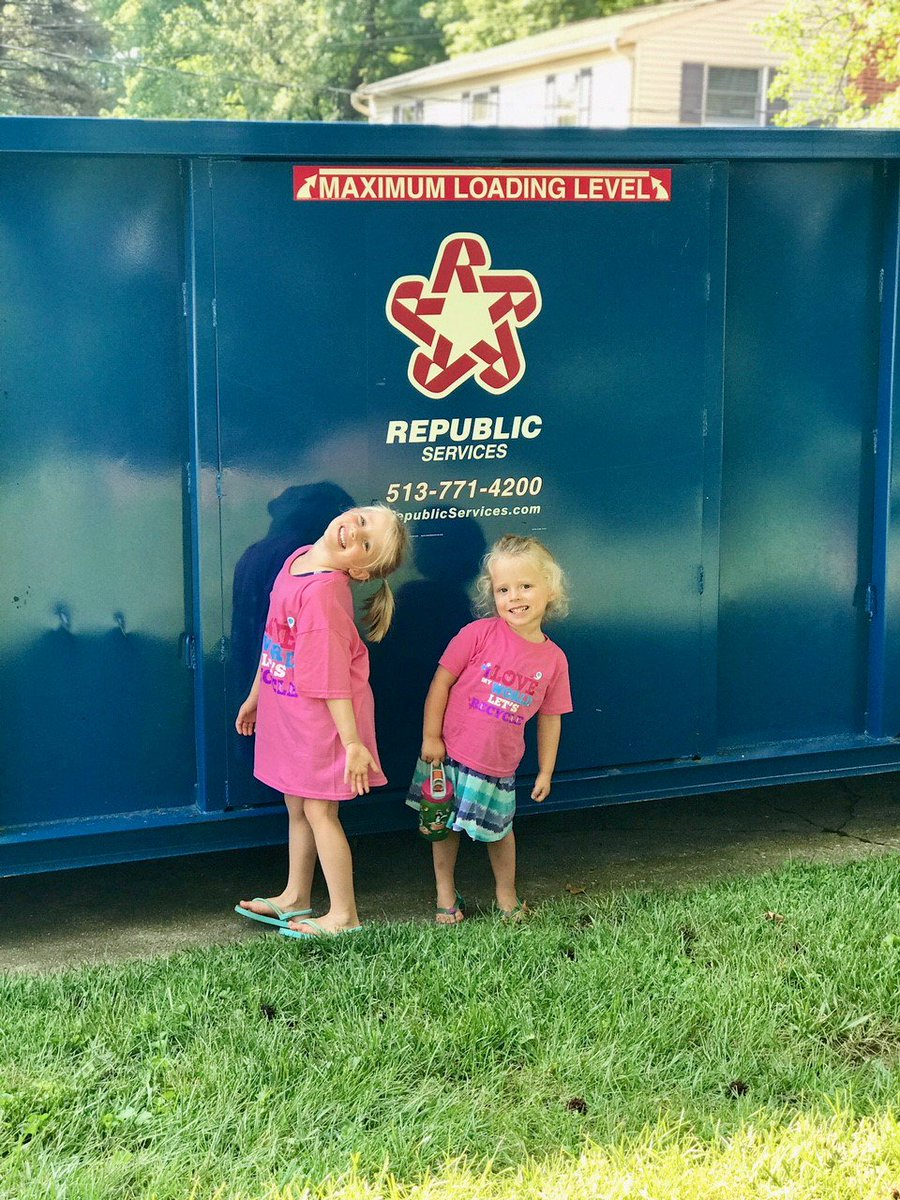Person: (215, 494, 413, 942), (416, 535, 586, 939)
